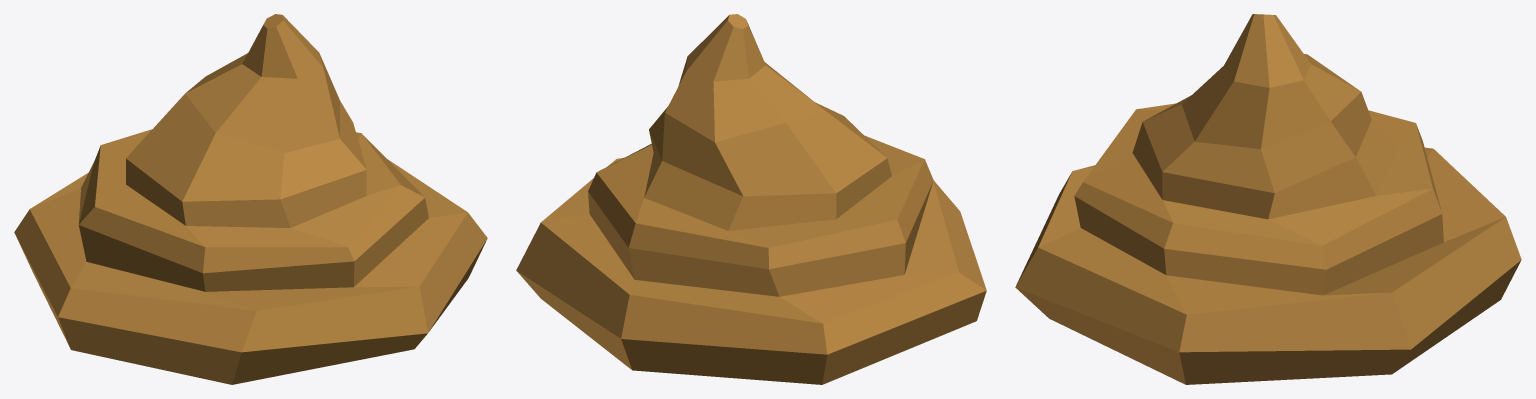
The model's file is Poo.fbx.
3 renders of one model, left to right at view 1: azimuth 30°, elevation 25°; view 2: azimuth 150°, elevation 25°; view 3: azimuth 270°, elevation 25°, orthographic. The views are drawn at different scales.
Visible parts, largest first — view 1: Poop; view 2: Poop; view 3: Poop.
Part boxes in pixels (x1=…): Poop: x1=14, y1=14, x2=487, y2=384; Poop: x1=516, y1=14, x2=986, y2=384; Poop: x1=1015, y1=14, x2=1521, y2=384.
Size of the model in its own units: 13.19 by 8.45 by 13.27.
